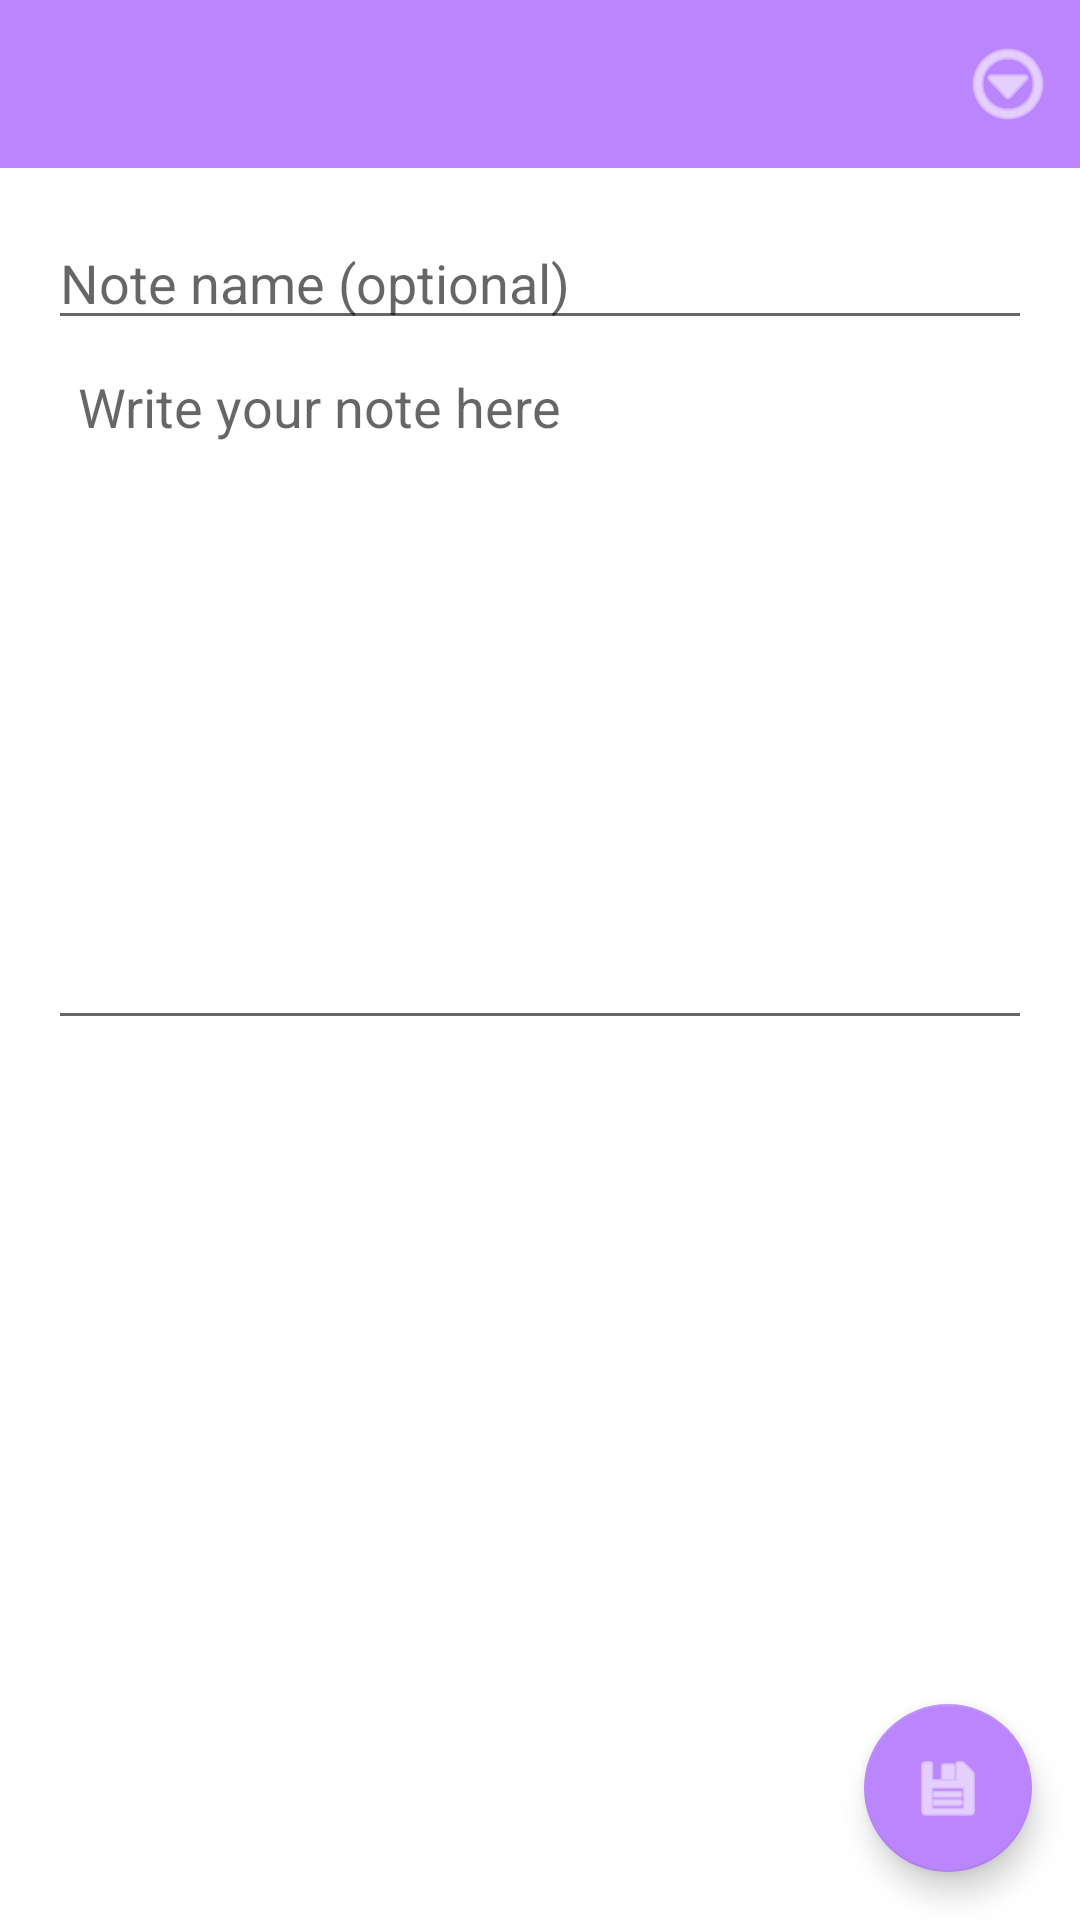

Named icons in this screenshot (1080 × 1920) and their centers, [x,y]:
Menu: [1008,84]
Save changes: [948,1788]
